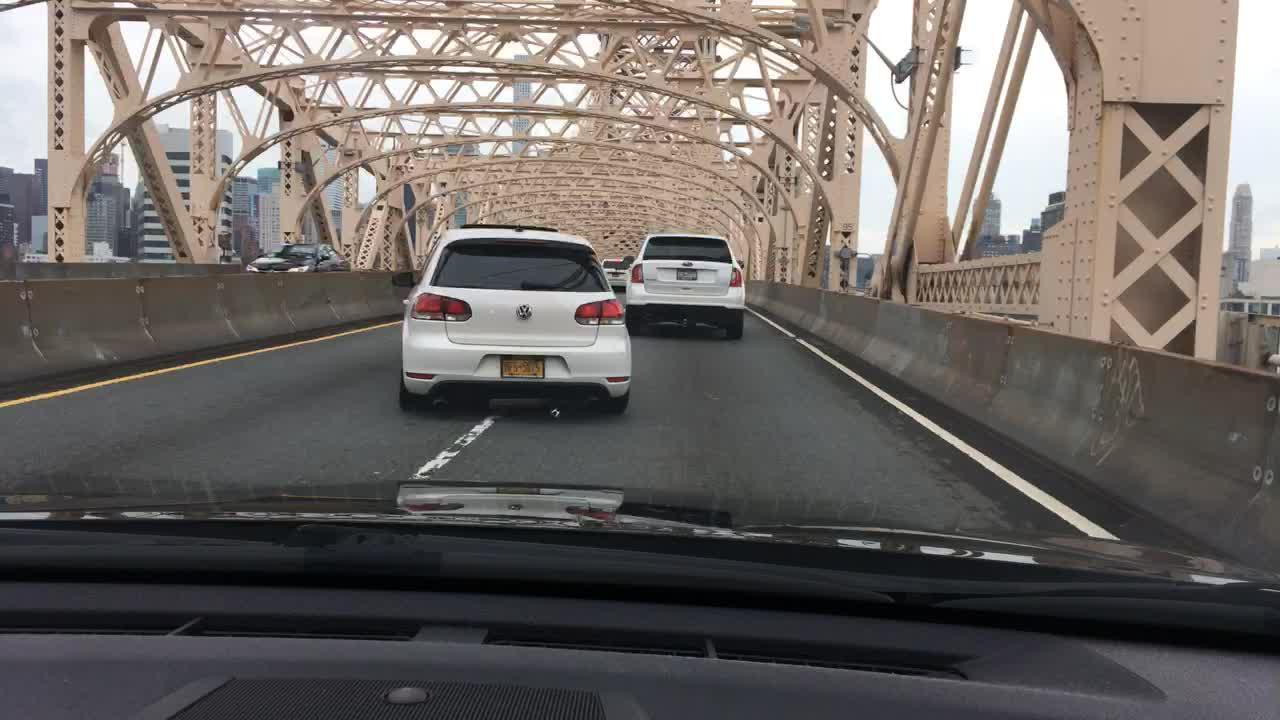Volkswagen: (509, 295, 538, 328)
